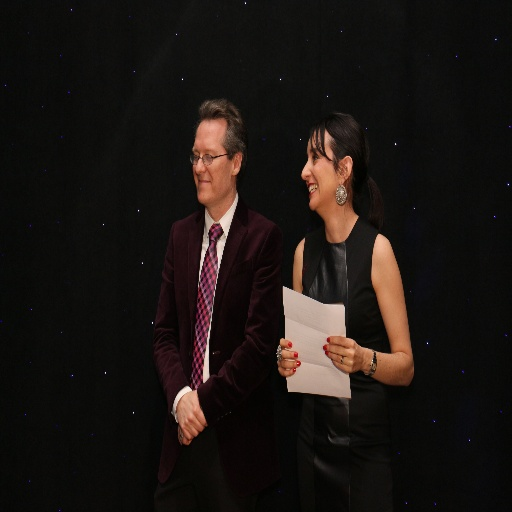hand: (174, 382, 209, 454), (322, 334, 365, 376), (273, 335, 301, 378), (175, 424, 192, 449)
